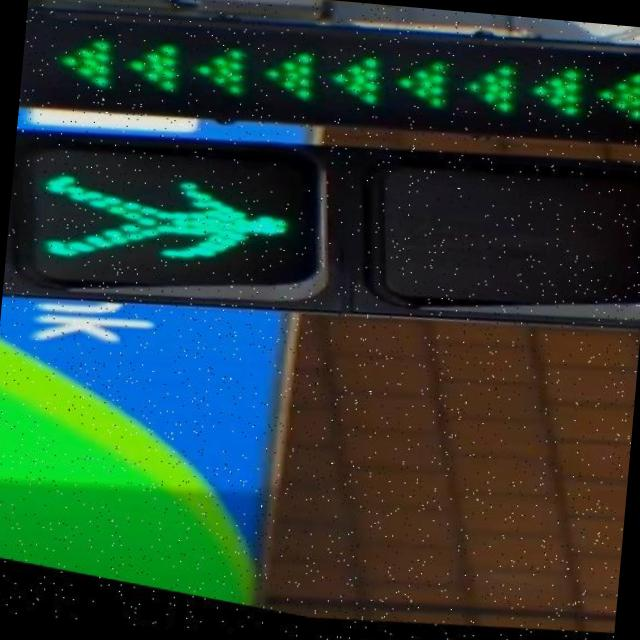green_light: (23, 130, 319, 327)
